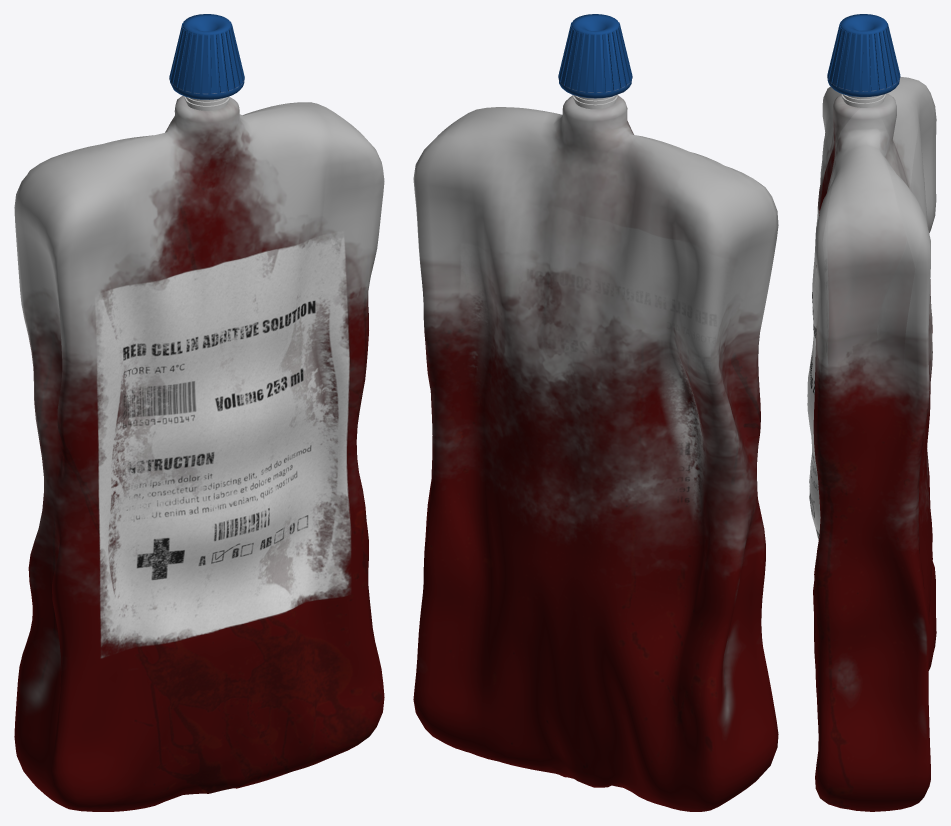
Rendered from blood_bag.glb.
The picture shows the model from 3 angles, left to right: view 1: azimuth 30°, elevation 25°; view 2: azimuth 150°, elevation 25°; view 3: azimuth 270°, elevation 25°; orthographic projection. The views are drawn at different scales.
Visible parts, largest first — view 1: SM_blood_bag_3; view 2: SM_blood_bag_3; view 3: SM_blood_bag_3.
Part boxes in pixels (box(x1,y1,x2,y2)): SM_blood_bag_3: box(14, 14, 384, 811); SM_blood_bag_3: box(413, 14, 778, 811); SM_blood_bag_3: box(807, 14, 936, 811).
Size of the model in its own units: 12.99 by 29.32 by 4.58.
Materials: 1 (1 with a texture image).
